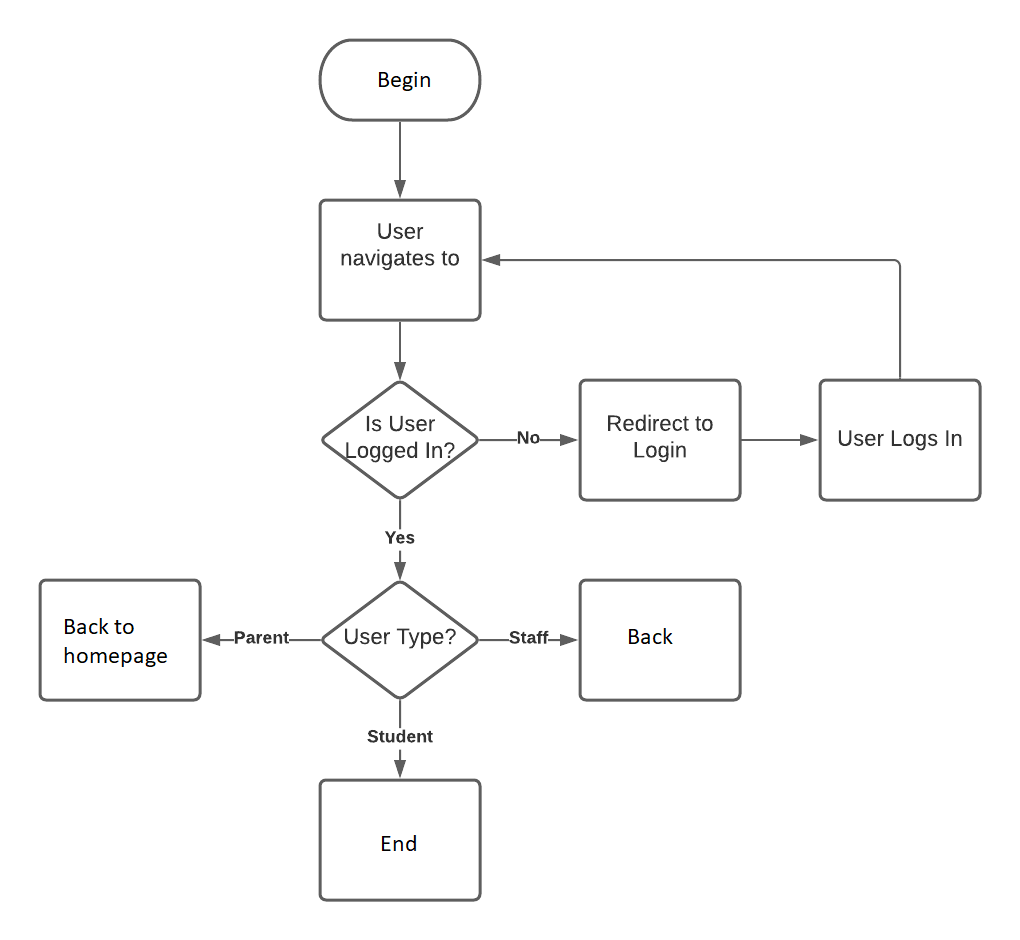arrow: (484, 253, 904, 383), (199, 632, 327, 647), (480, 632, 581, 647), (389, 123, 409, 193), (481, 433, 581, 447), (393, 697, 409, 783), (391, 497, 407, 576), (744, 433, 817, 449), (391, 319, 409, 379)
decision: (320, 380, 479, 497), (319, 582, 477, 697)
process: (314, 776, 486, 907), (814, 377, 986, 506), (314, 195, 483, 326), (576, 577, 746, 706), (36, 575, 203, 705), (576, 379, 746, 503)
terminator: (317, 37, 483, 122)
text: (336, 222, 459, 275), (604, 412, 716, 465), (343, 412, 456, 462), (61, 616, 171, 667), (834, 427, 964, 453), (340, 625, 460, 647), (364, 729, 437, 747), (233, 629, 293, 649), (624, 625, 674, 649), (374, 73, 433, 92), (379, 830, 420, 856), (381, 527, 417, 550), (506, 629, 551, 645), (513, 429, 544, 447)
